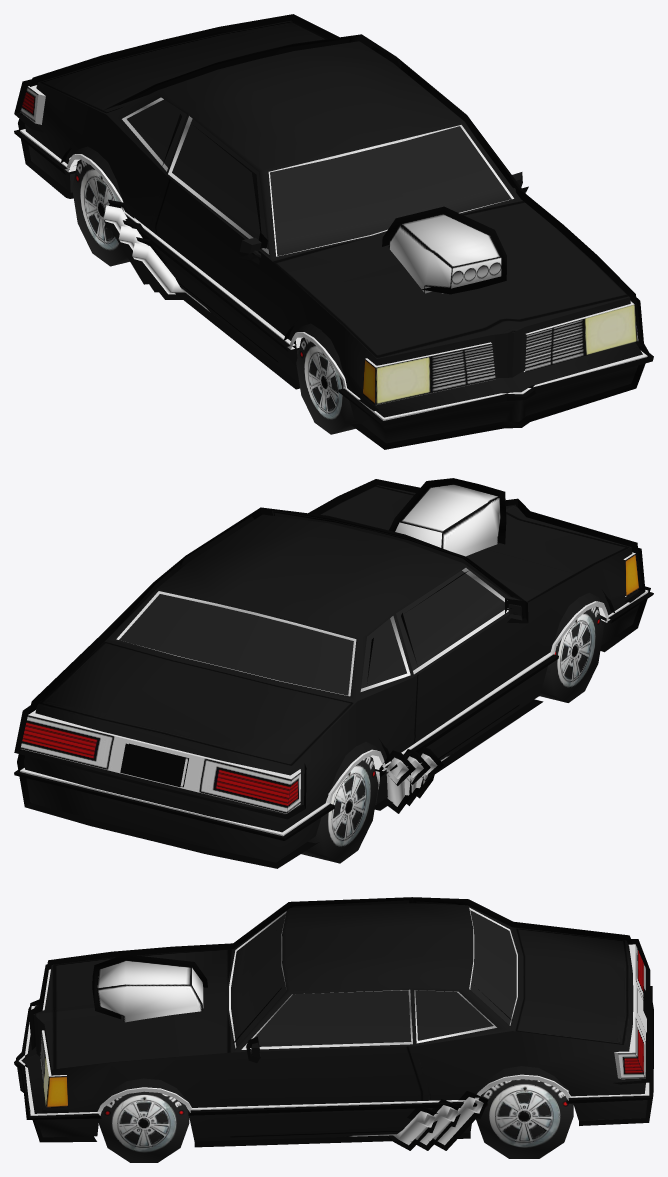
File: Car6.fbx
3 views of the same model, one above another, from view 1: azimuth 30°, elevation 25°; view 2: azimuth 150°, elevation 25°; view 3: azimuth 270°, elevation 25° (orthographic). The views are drawn at different scales.
Parts seen in each view (by area): view 1: CarBody, Front_Right_Wheel, Rear_Right_Wheel; view 2: CarBody, Rear_Right_Wheel, Front_Right_Wheel; view 3: CarBody, Rear_Left_Wheel, Front_Left_Wheel.
Boxes of the visible parts, left/top/right/bottom form: CarBody: left=14, top=14, right=653, bottom=449; Front_Right_Wheel: left=296, top=337, right=360, bottom=434; Rear_Right_Wheel: left=72, top=159, right=129, bottom=266; CarBody: left=14, top=478, right=653, bottom=868; Rear_Right_Wheel: left=301, top=756, right=378, bottom=863; Front_Right_Wheel: left=539, top=606, right=603, bottom=702; CarBody: left=14, top=897, right=653, bottom=1150; Rear_Left_Wheel: left=476, top=1079, right=573, bottom=1158; Front_Left_Wheel: left=99, top=1091, right=189, bottom=1162.
Size of the model in its own units: 25.35 by 16.09 by 52.99.
